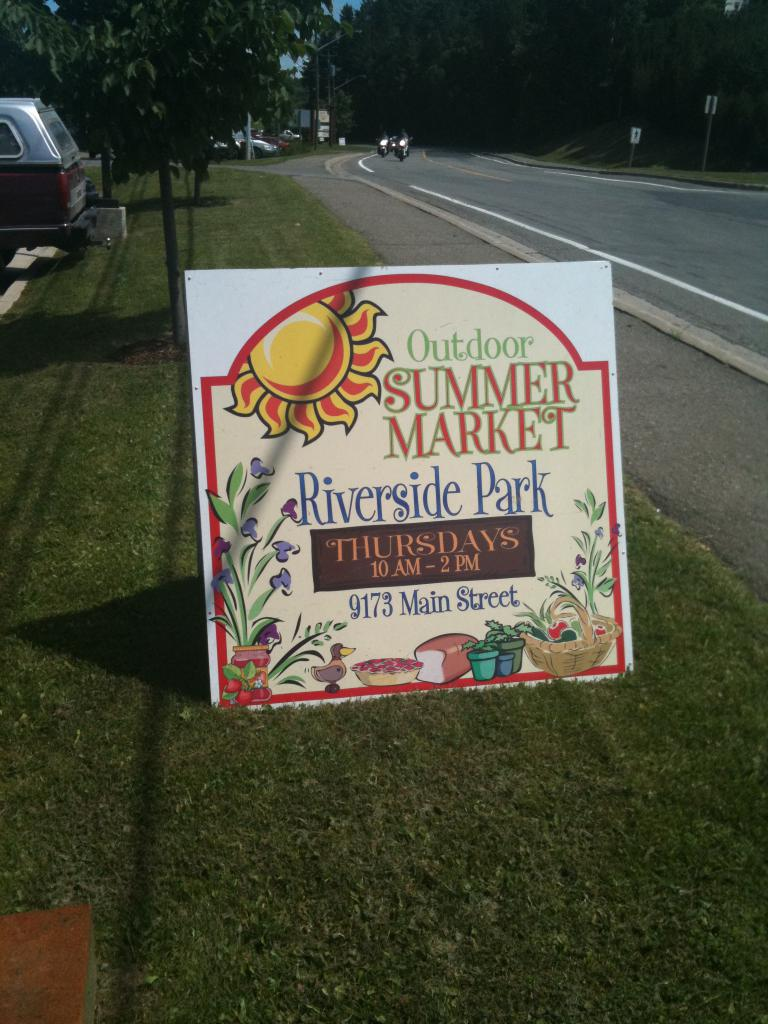Car: (0, 85, 94, 268), (213, 126, 304, 160)
